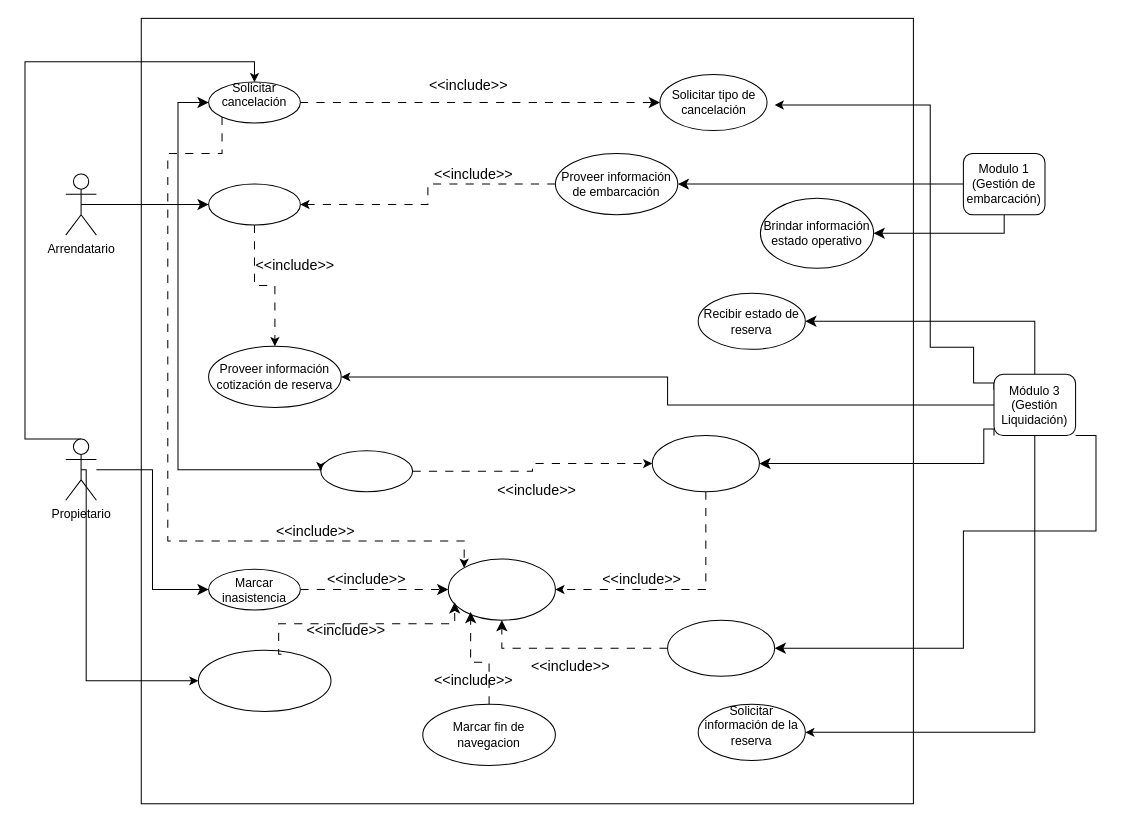
The diagram is 1124 pixels wide and 821 high, and some of its shapes have lost their labels. The shapes that lost their labels are listed below. From the top down, each one's centre as x and y in pixels, then its label:
At [254,204]: "Iniciar reserva".
At [366,471]: "Iniciar pago".
At [705,463]: "Recibir solicitud de pago".
At [501,589]: "Actualizar estado reserva".
At [721,647]: "Confirmar pago".
At [264,680]: "Marcar inicio de la navegación".
